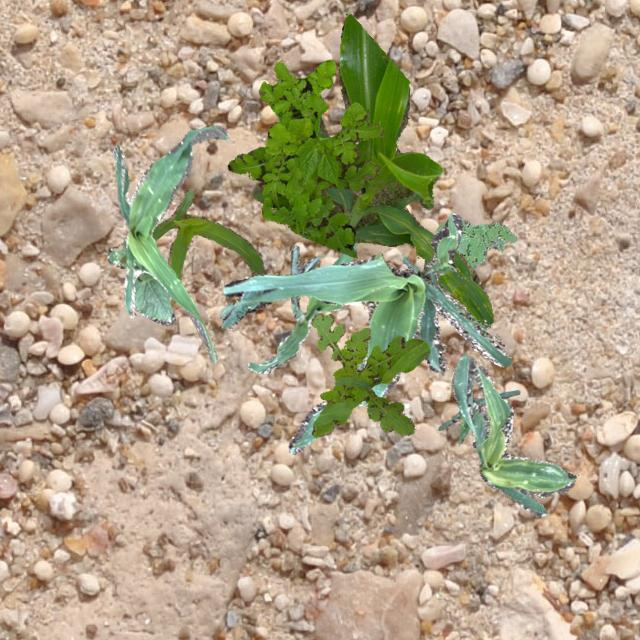crop: (252, 12, 492, 326), (218, 212, 510, 454), (112, 125, 228, 362), (450, 352, 574, 516), (245, 242, 357, 372), (120, 186, 264, 282), (104, 238, 174, 324), (438, 388, 518, 442)
weed: (228, 58, 382, 256), (310, 312, 428, 436), (434, 216, 516, 266)
